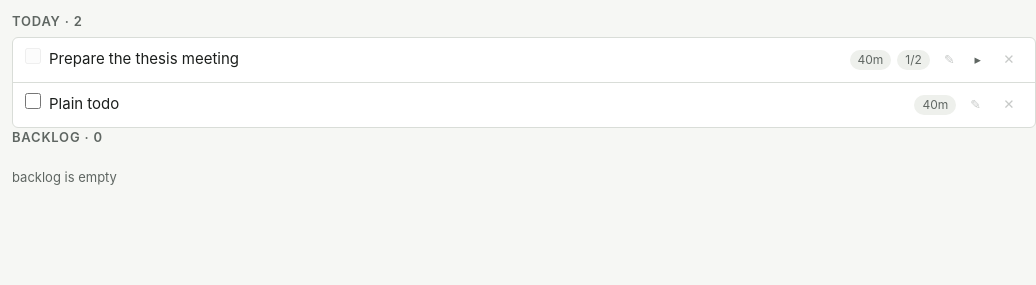
Test: TodayList › [F-032] rows show only the heading; the fold button reveals the note and sub-todos, a checkbox PATCHes them
This screenshot has width=1036, height=285.
Expected: the text with test id "row-chip" reads "1/2", [897,50,930,70]
Click the button with test id "row-fold" at [978, 60], box [969,49,987,72]
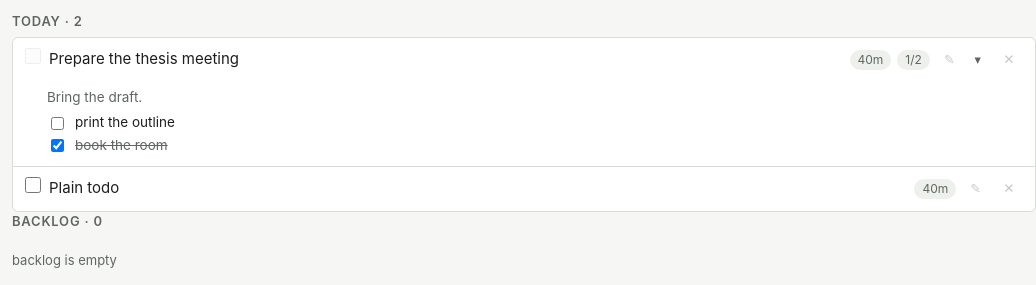
Expected: the text with test id "row-note" reads "Bring the draft.", [47,89,142,105]
Expected: the number of list items with test id "row-subtask" is 2, [51,114,175,130]; [51,137,168,153]
Click the checkbox labelled "print the outline" at [58, 123], box [51,117,64,130]
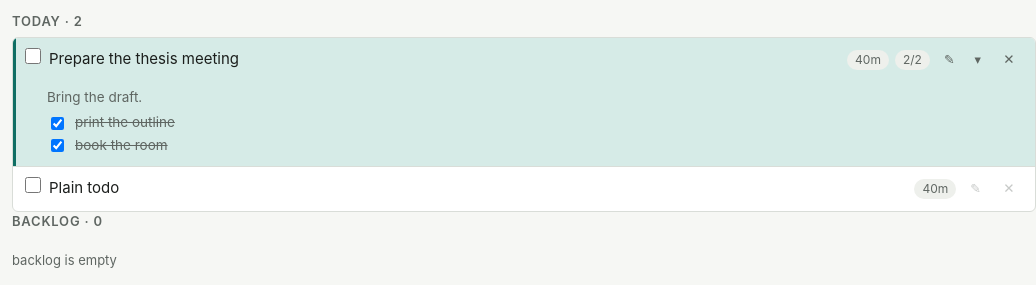
Press Space
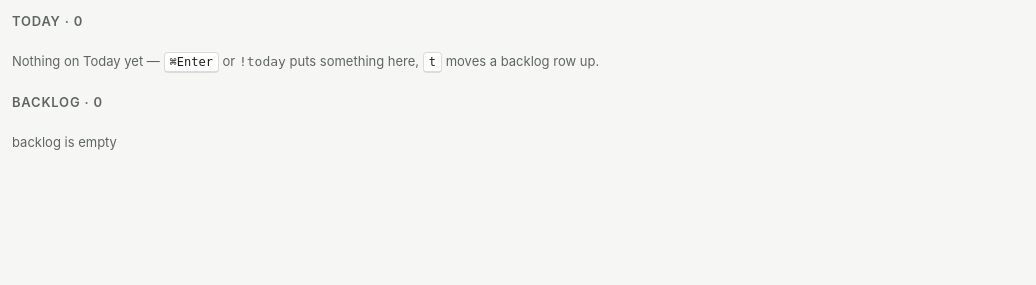
Expected: the element with test id "row-details" is gone
